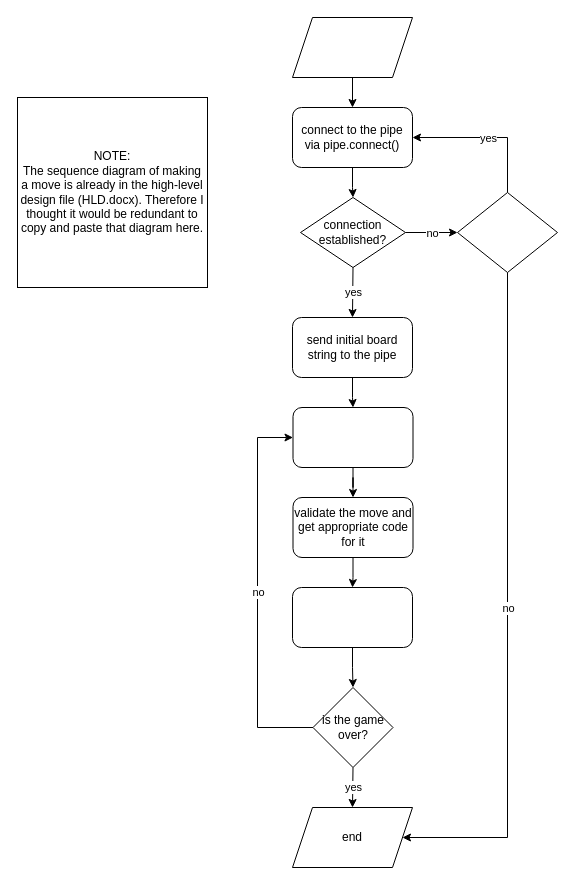
Image size: 575x885. Some labels were removed from this diagram. Here are the shapes that lost their labels. From the top down, the centre of each, then its label:
At [352,47]: "program start".
At [507,232]: "does the user want to try again?".
At [352,437]: "get move from pipe".
At [352,617]: "send appropriate code to pipe".
